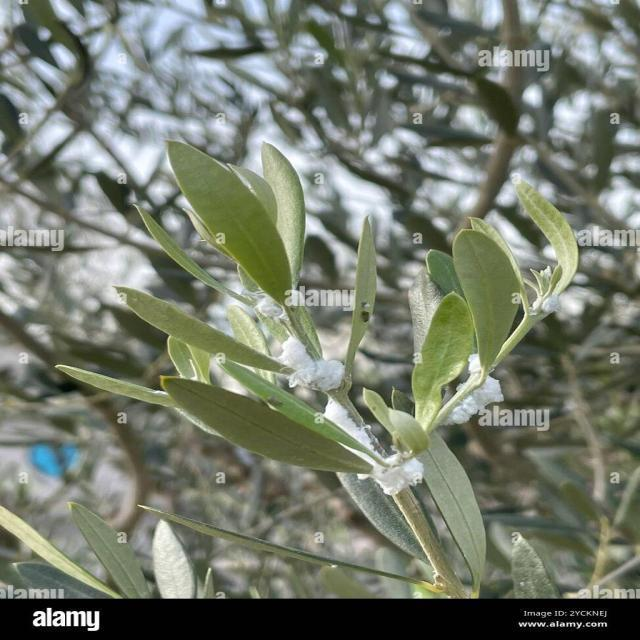Psyllid: (276, 336, 348, 392), (438, 375, 502, 426), (352, 450, 424, 495), (325, 399, 369, 444), (240, 288, 286, 324), (528, 293, 560, 316), (468, 352, 482, 378)
